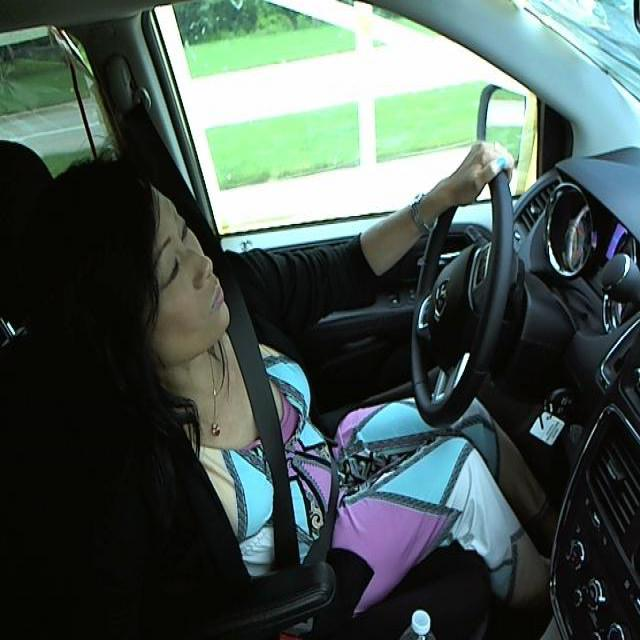seatbelt: (229, 329, 346, 571)
